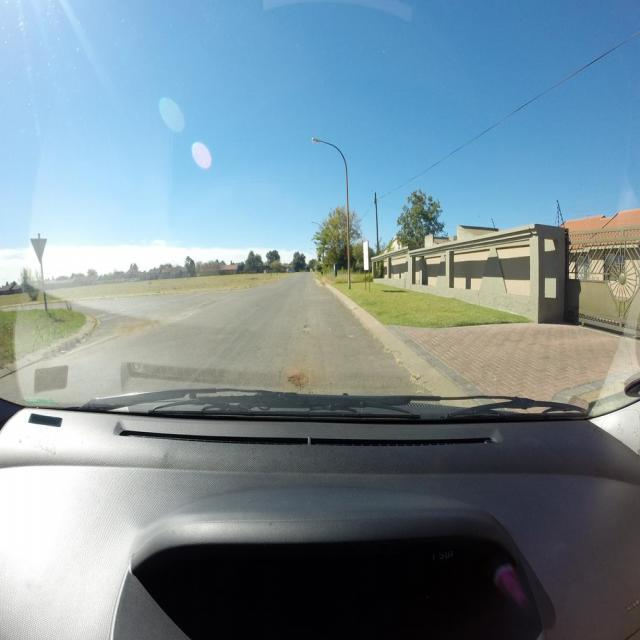pothole: (288, 374, 310, 387), (304, 324, 310, 335)
